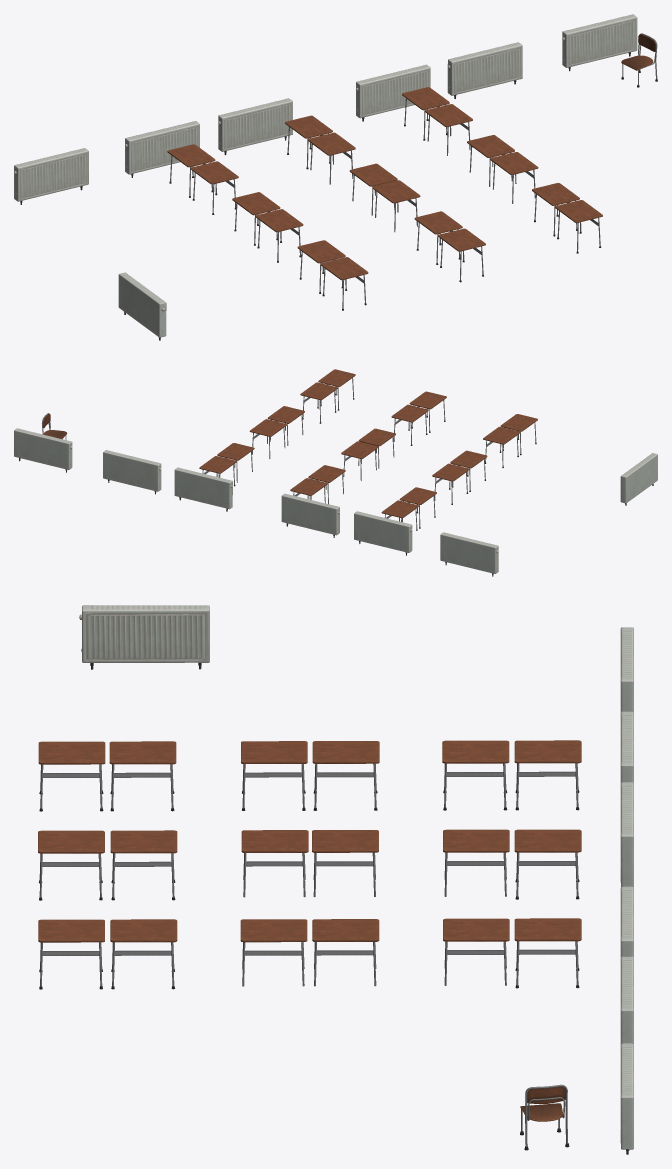
The model's file is Salon de clases 3.fbx.
3 views of the same model, one above another, from view 1: azimuth 30°, elevation 25°; view 2: azimuth 150°, elevation 25°; view 3: azimuth 270°, elevation 25° (orthographic). The views are drawn at different scales.
Visible parts, largest first — view 1: _gltfNode_6.007_MI_Radiator_0, _gltfNode_6.006_MI_Radiator_0, _gltfNode_6.001_MI_Radiator_0, _gltfNode_6.004_MI_Radiator_0, _gltfNode_6.005_MI_Radiator_0, _gltfNode_6.003_MI_Radiator_0, _gltfNode_6.002_MI_Radiator_0, _gltfNode_0.002_MI_DeskAndChair_0, _gltfNode_0.015_MI_DeskAndChair_0, _gltfNode_0.030_MI_DeskAndChair_0, _gltfNode_0.017_MI_DeskAndChair_0, _gltfNode_0.031_MI_DeskAndChair_0 (+14 smaller); view 2: _gltfNode_6.001_MI_Radiator_0, _gltfNode_6.005_MI_Radiator_0, _gltfNode_6.004_MI_Radiator_0, _gltfNode_6.006_MI_Radiator_0, _gltfNode_6.003_MI_Radiator_0, _gltfNode_6.007_MI_Radiator_0, _gltfNode_6.002_MI_Radiator_0, _gltfNode_0.026_MI_DeskAndChair_0, _gltfNode_0.031_MI_DeskAndChair_0, _gltfNode_0.009_MI_DeskAndChair_0, _gltfNode_0.012_MI_DeskAndChair_0, _gltfNode_0.013_MI_DeskAndChair_0 (+13 smaller); view 3: _gltfNode_6.002_MI_Radiator_0, _gltfNode_0.002_MI_DeskAndChair_0, _gltfNode_0.013_MI_DeskAndChair_0, _gltfNode_0.017_MI_DeskAndChair_0, _gltfNode_0.009_MI_DeskAndChair_0, _gltfNode_0.012_MI_DeskAndChair_0, _gltfNode_0.019_MI_DeskAndChair_0, _gltfNode_0.021_MI_DeskAndChair_0, _gltfNode_0.016_MI_DeskAndChair_0, _gltfNode_0.005_MI_DeskAndChair_0, _gltfNode_0.004_MI_DeskAndChair_0, _gltfNode_0.024_MI_DeskAndChair_0 (+14 smaller).
Boxes of the visible parts, box(x1,y1,x2,y2) form: _gltfNode_6.007_MI_Radiator_0: box(562, 14, 637, 71); _gltfNode_6.006_MI_Radiator_0: box(447, 42, 522, 98); _gltfNode_6.001_MI_Radiator_0: box(14, 148, 88, 204); _gltfNode_6.004_MI_Radiator_0: box(218, 98, 292, 155); _gltfNode_6.005_MI_Radiator_0: box(356, 64, 430, 121); _gltfNode_6.003_MI_Radiator_0: box(125, 121, 199, 177); _gltfNode_6.002_MI_Radiator_0: box(118, 272, 166, 340); _gltfNode_0.002_MI_DeskAndChair_0: box(621, 33, 657, 87); _gltfNode_0.015_MI_DeskAndChair_0: box(232, 192, 280, 215); _gltfNode_0.030_MI_DeskAndChair_0: box(372, 180, 420, 203); _gltfNode_0.017_MI_DeskAndChair_0: box(167, 144, 215, 167); _gltfNode_0.031_MI_DeskAndChair_0: box(349, 163, 397, 186); _gltfNode_6.001_MI_Radiator_0: box(440, 532, 498, 576); _gltfNode_6.005_MI_Radiator_0: box(174, 467, 232, 511); _gltfNode_6.004_MI_Radiator_0: box(281, 493, 339, 537); _gltfNode_6.006_MI_Radiator_0: box(103, 450, 161, 494); _gltfNode_6.003_MI_Radiator_0: box(354, 511, 412, 555); _gltfNode_6.007_MI_Radiator_0: box(14, 428, 72, 472); _gltfNode_6.002_MI_Radiator_0: box(620, 453, 657, 505); _gltfNode_0.026_MI_DeskAndChair_0: box(308, 465, 345, 482); _gltfNode_0.031_MI_DeskAndChair_0: box(341, 441, 378, 459); _gltfNode_0.009_MI_DeskAndChair_0: box(391, 404, 428, 422); _gltfNode_0.012_MI_DeskAndChair_0: box(500, 414, 537, 431); _gltfNode_0.013_MI_DeskAndChair_0: box(483, 426, 520, 444); _gltfNode_6.002_MI_Radiator_0: box(79, 605, 209, 669); _gltfNode_0.002_MI_DeskAndChair_0: box(520, 1084, 569, 1150); _gltfNode_0.013_MI_DeskAndChair_0: box(109, 741, 176, 764); _gltfNode_0.017_MI_DeskAndChair_0: box(514, 740, 581, 763); _gltfNode_0.009_MI_DeskAndChair_0: box(110, 830, 177, 853); _gltfNode_0.012_MI_DeskAndChair_0: box(38, 741, 105, 764); _gltfNode_0.019_MI_DeskAndChair_0: box(514, 829, 581, 852); _gltfNode_0.021_MI_DeskAndChair_0: box(514, 918, 581, 941); _gltfNode_0.016_MI_DeskAndChair_0: box(442, 740, 509, 763); _gltfNode_0.005_MI_DeskAndChair_0: box(110, 919, 177, 942); _gltfNode_0.004_MI_DeskAndChair_0: box(38, 919, 104, 942); _gltfNode_0.024_MI_DeskAndChair_0: box(443, 918, 509, 941).
Size of the model in its own units: 1567 by 96.44 by 799.
2 materials, 2 textured.
